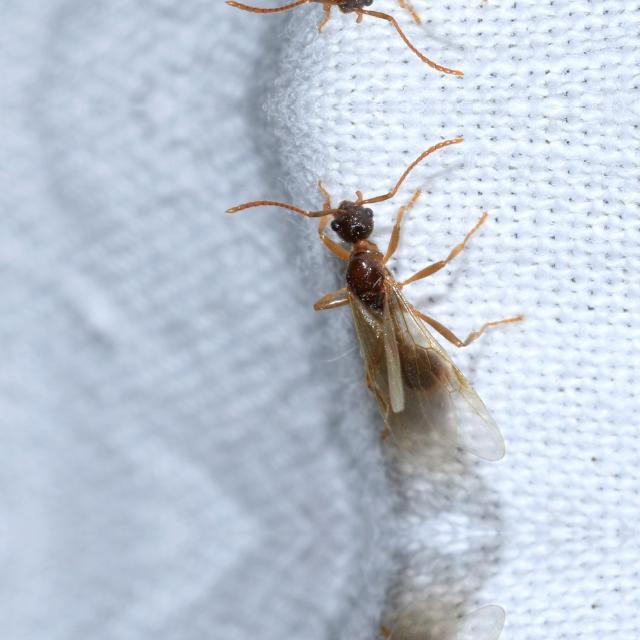Myrmica: (254, 147, 528, 476)
